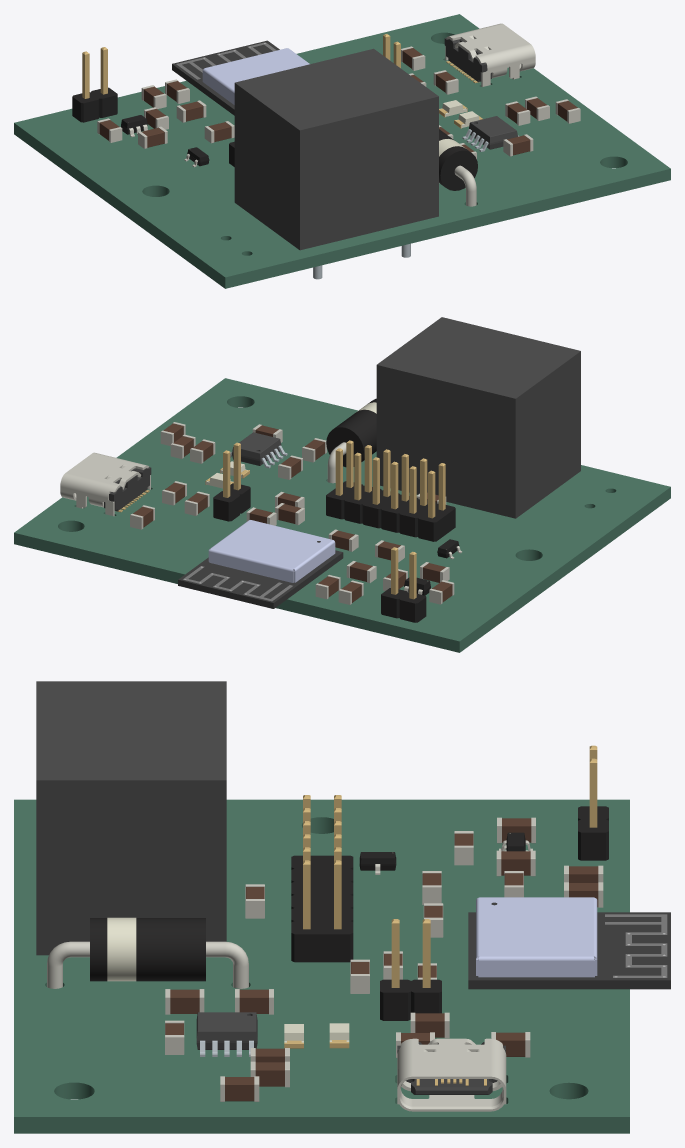
The model's file is Launchy.glb.
The picture shows the model from 3 angles, top to bottom: view 1: azimuth 30°, elevation 25°; view 2: azimuth 150°, elevation 25°; view 3: azimuth 270°, elevation 25°; orthographic projection. The views are drawn at different scales.
Parts seen in each view (by area): view 1: =>[0:1:1:13], =>[0:1:1:2] (×2), IC1, J6, D3, J7, R15, R5, C1, C4, C6, R2 (+7 smaller); view 2: =>[0:1:1:13], =>[0:1:1:2] (×2), IC1, J1, J6, D3, J7, BOOT, R5, R12; view 3: =>[0:1:1:13], =>[0:1:1:2] (×2), IC1, D3, J1, J6, BOOT, J7, R4, R3, R6, R7 (+12 smaller).
Part boxes in pixels (x1,y1,x2,y2): =>[0:1:1:13]: [14, 14, 670, 288]; =>[0:1:1:2] (×2): [234, 48, 517, 250]; IC1: [172, 40, 309, 115]; J6: [444, 23, 535, 86]; D3: [439, 129, 477, 206]; J7: [72, 47, 117, 122]; R15: [204, 121, 234, 143]; R5: [176, 100, 206, 122]; C1: [503, 134, 533, 156]; C4: [138, 126, 167, 148]; C6: [433, 70, 458, 94]; R2: [505, 101, 530, 125]; =>[0:1:1:13]: [14, 378, 670, 652]; =>[0:1:1:2] (×2): [232, 317, 580, 518]; IC1: [178, 520, 343, 608]; J1: [326, 440, 455, 541]; J6: [60, 452, 151, 516]; D3: [326, 398, 376, 483]; J7: [381, 547, 426, 622]; BOOT: [213, 442, 250, 521]; R5: [346, 561, 376, 582]; R12: [275, 503, 304, 525]; =>[0:1:1:13]: [14, 799, 629, 1133]; =>[0:1:1:2] (×2): [36, 681, 257, 1049]; IC1: [468, 897, 670, 989]; D3: [47, 917, 248, 988]; J1: [291, 795, 353, 962]; J6: [397, 1038, 506, 1111]; BOOT: [380, 919, 441, 1020]; J7: [578, 745, 608, 860]; R4: [220, 1076, 259, 1101]; R3: [165, 989, 204, 1014]; R6: [235, 989, 273, 1014]; R7: [250, 1061, 289, 1087].
Size of the model in its own units: 0.0615 by 0.0209 by 0.0538.
